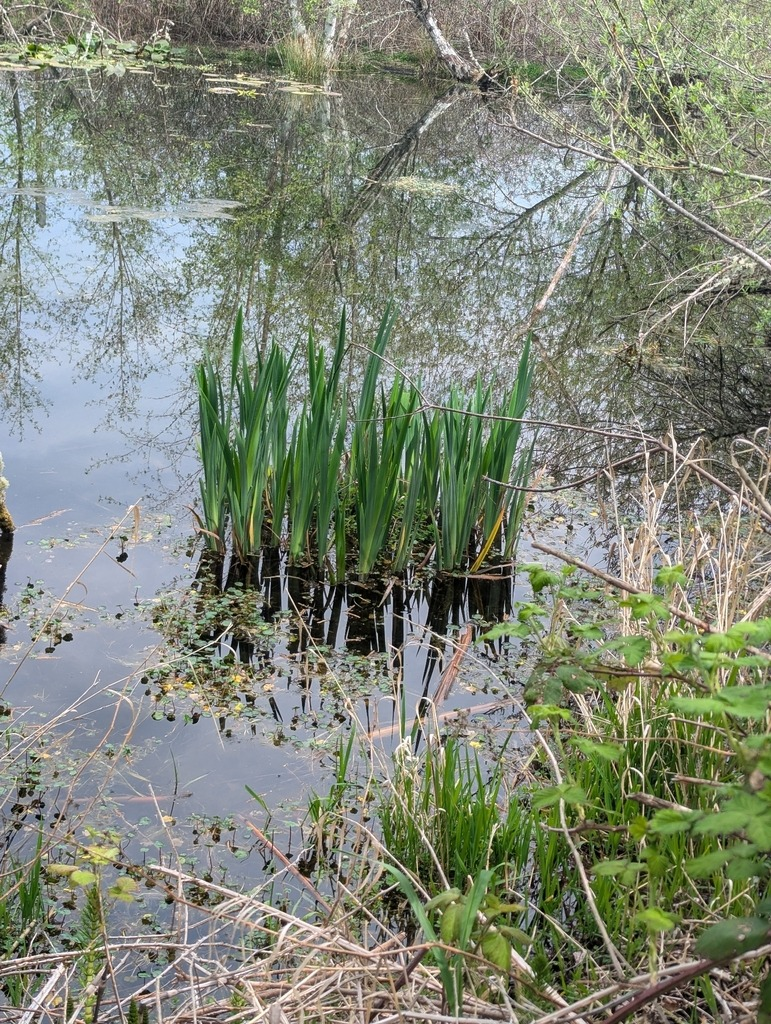yellow flag iris: (185, 299, 543, 580)
